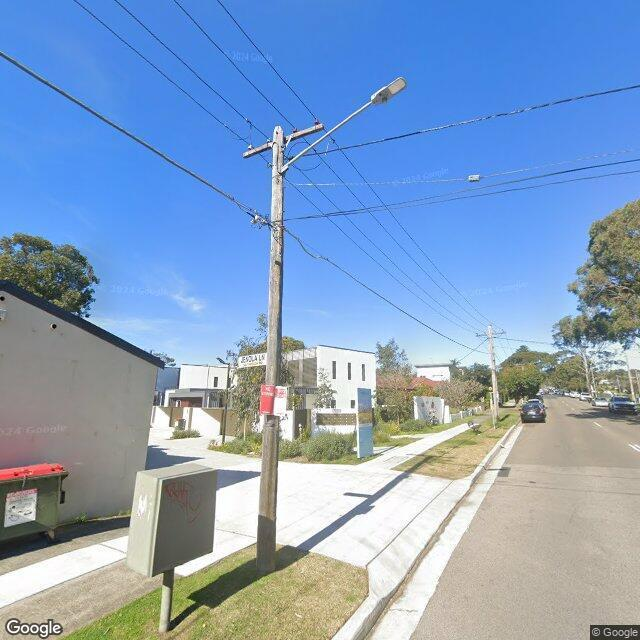crossarm: (243, 118, 324, 159), (475, 329, 506, 337)
streetlight: (281, 78, 408, 174)
timber-pole: (266, 124, 284, 386), (488, 325, 498, 417)
